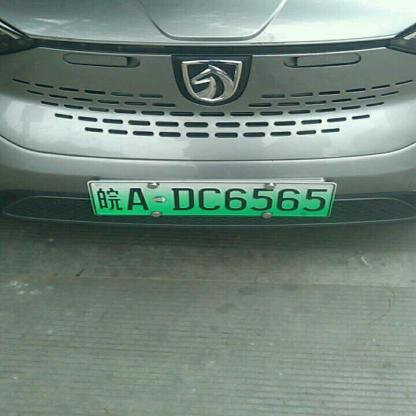lp: (89, 182, 335, 216)
